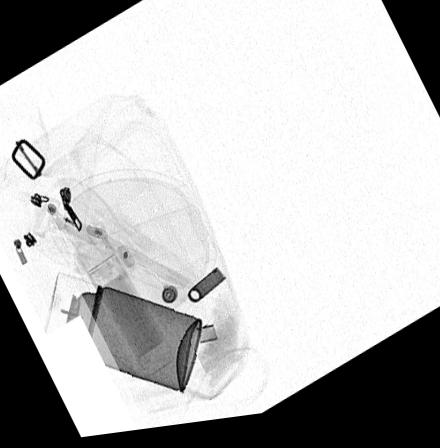Sprayer: (44, 273, 201, 396)
